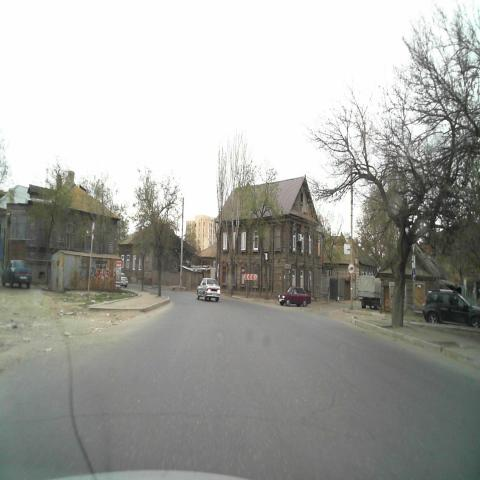3_4_1: (90, 221, 96, 242)
